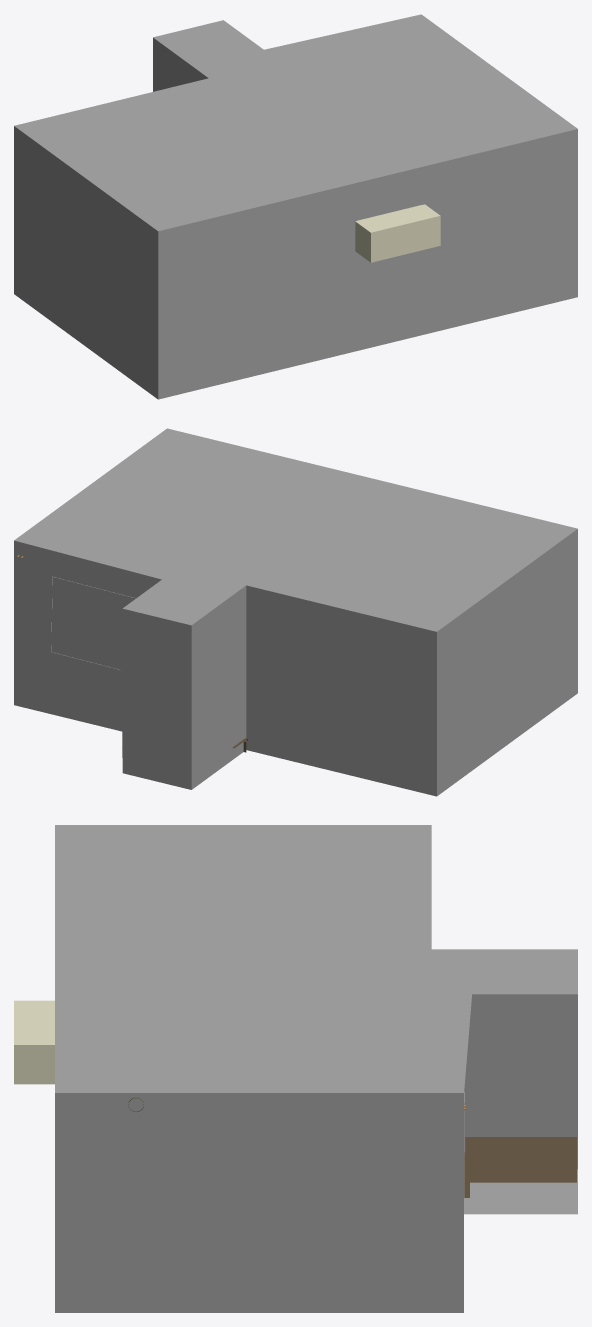
Rendered from basement draft 09.fbx.
3 renders of one model, top to bottom at view 1: azimuth 30°, elevation 25°; view 2: azimuth 150°, elevation 25°; view 3: azimuth 270°, elevation 25°, orthographic. The views are drawn at different scales.
Parts seen in each view (by area): view 1: pCube76, pCube64; view 2: pCube76; view 3: pCube76, Stair_2_geo, pCube64.
Part boxes in pixels (left/top/right/bottom): pCube76: left=14, top=14, right=577, bottom=399; pCube64: left=355, top=204, right=440, bottom=262; pCube76: left=14, top=428, right=577, bottom=796; pCube76: left=55, top=825, right=577, bottom=1312; Stair_2_geo: left=465, top=1137, right=576, bottom=1185; pCube64: left=14, top=1000, right=54, bottom=1084.
Size of the model in its own units: 205 by 79.1 by 182.
